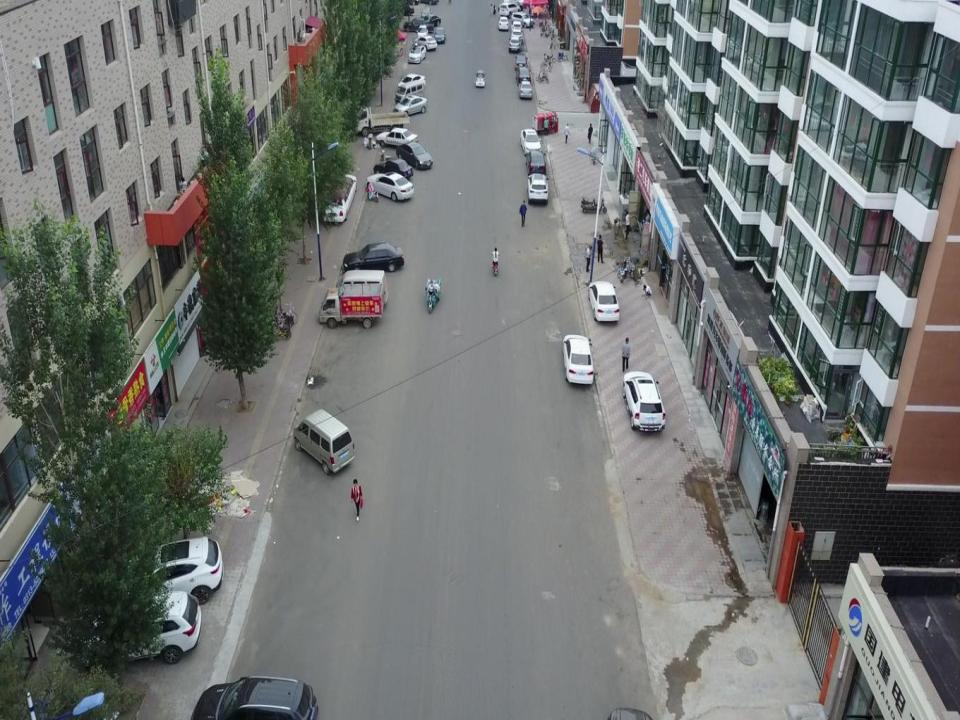car: (78, 590, 202, 670), (100, 536, 224, 613), (188, 676, 318, 720), (622, 371, 666, 432), (342, 242, 404, 275), (322, 174, 357, 224), (562, 334, 594, 386), (366, 172, 414, 202), (588, 280, 620, 323), (374, 157, 414, 183), (396, 142, 433, 170), (376, 127, 418, 150), (393, 94, 428, 117), (527, 173, 549, 205), (520, 128, 543, 158), (526, 150, 546, 177), (398, 74, 426, 92), (414, 35, 437, 52), (511, 12, 534, 28), (499, 2, 521, 18), (408, 45, 426, 64), (419, 14, 441, 29), (498, 0, 523, 13), (388, 4, 415, 16), (517, 80, 533, 100), (515, 66, 531, 86), (514, 52, 528, 72), (508, 36, 522, 52), (510, 28, 523, 45), (434, 27, 446, 44), (475, 70, 486, 88), (417, 24, 428, 40), (420, 6, 432, 20), (511, 21, 523, 35), (498, 16, 509, 31)
truck: (319, 284, 384, 328), (353, 104, 410, 136), (403, 17, 434, 33)
van: (292, 409, 355, 476), (332, 269, 388, 312), (395, 80, 424, 105)
